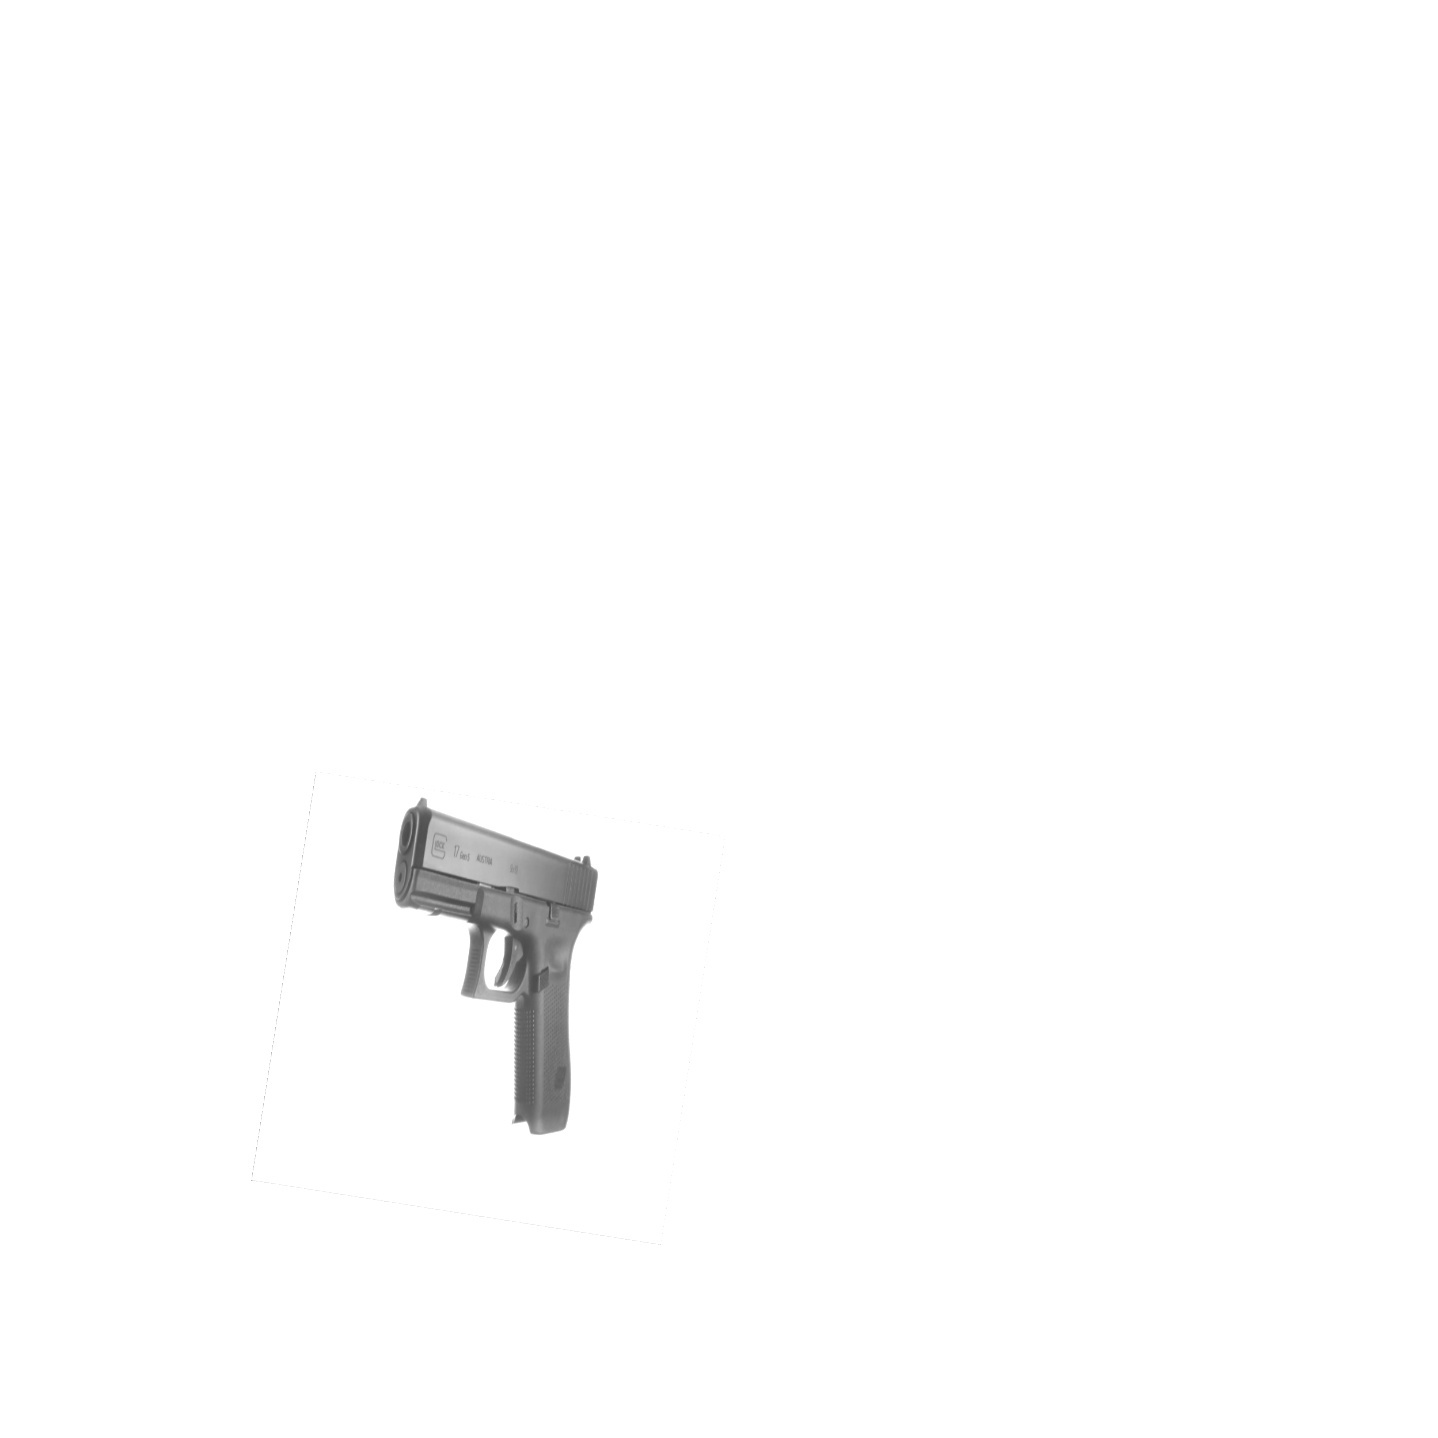gun: (385, 790, 606, 1147)
